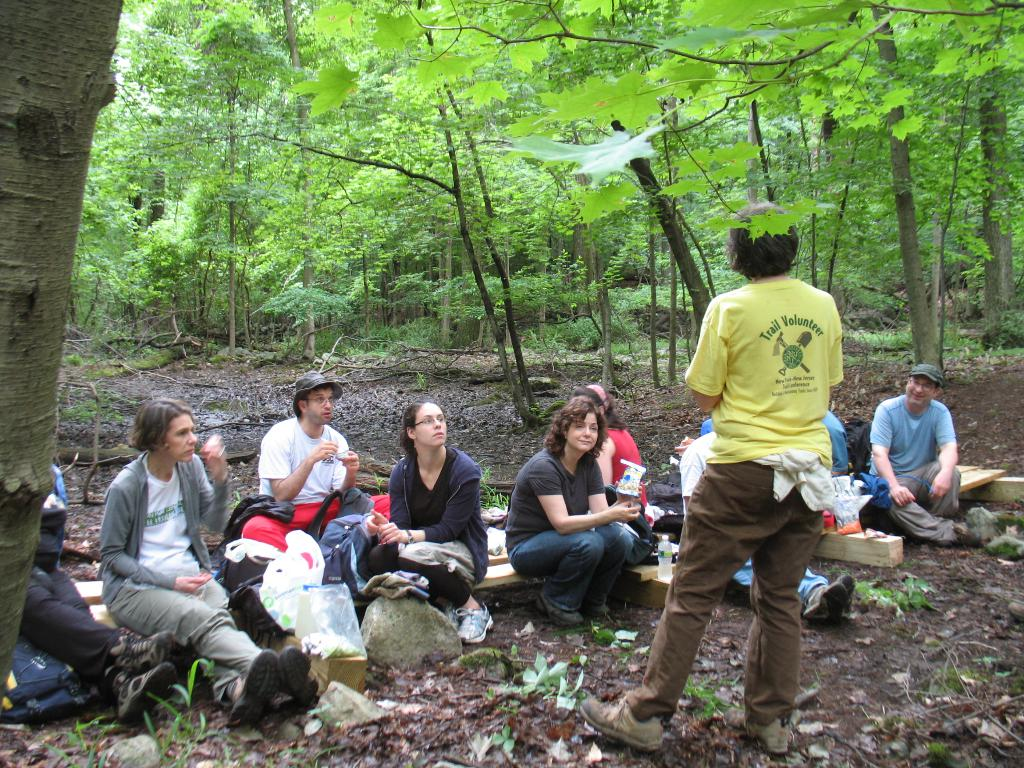Tree: (0, 0, 1023, 705)
